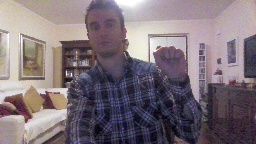Pugno: (151, 43, 187, 80)
